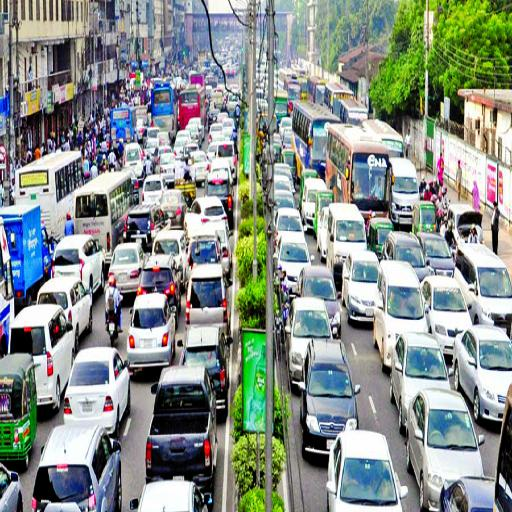bus: (328, 121, 383, 192), (15, 151, 84, 203), (293, 103, 327, 150), (152, 82, 178, 127), (110, 104, 137, 143), (179, 85, 206, 118), (340, 97, 370, 123), (385, 120, 403, 153), (325, 80, 340, 111), (308, 75, 324, 103), (288, 75, 302, 99), (303, 72, 308, 100)
car: (32, 426, 124, 512), (300, 338, 358, 459), (329, 428, 402, 512), (408, 393, 481, 476), (72, 347, 131, 430), (390, 333, 448, 403), (453, 326, 512, 388), (127, 295, 172, 363), (130, 479, 214, 512), (343, 250, 372, 327), (180, 325, 232, 365), (426, 279, 462, 334), (438, 477, 494, 512), (287, 297, 328, 337), (275, 233, 314, 268), (114, 241, 141, 291), (299, 266, 340, 294), (1, 466, 25, 512), (448, 202, 484, 230), (430, 233, 452, 277), (70, 282, 93, 319), (275, 207, 304, 233), (157, 229, 186, 253), (167, 189, 184, 222), (302, 178, 315, 217), (143, 176, 163, 201), (273, 190, 298, 208), (195, 149, 208, 183), (273, 173, 292, 190), (209, 122, 224, 140), (160, 153, 173, 173), (175, 136, 184, 157), (143, 127, 156, 140), (191, 125, 201, 141), (280, 116, 292, 128), (157, 131, 171, 140), (226, 117, 235, 131)
minibus: (76, 171, 125, 231)
minivan: (375, 259, 426, 334), (38, 305, 69, 409), (471, 243, 512, 319), (186, 265, 229, 325), (393, 160, 414, 224), (187, 231, 222, 262), (124, 140, 143, 169), (217, 141, 237, 157), (228, 92, 239, 109)
motorbike: (102, 305, 123, 347), (274, 305, 286, 360), (438, 202, 448, 227), (108, 160, 117, 171), (236, 112, 241, 127), (119, 152, 123, 169)
pickup: (145, 365, 219, 480), (12, 203, 50, 282), (275, 92, 288, 116)
suv: (52, 233, 102, 276), (125, 202, 163, 235), (185, 196, 222, 224), (207, 172, 232, 197)
three wheelers (CNG): (1, 355, 37, 465), (415, 197, 438, 230), (369, 216, 386, 252), (281, 147, 298, 164), (317, 190, 336, 205), (301, 168, 318, 177)
van: (327, 203, 367, 253)
